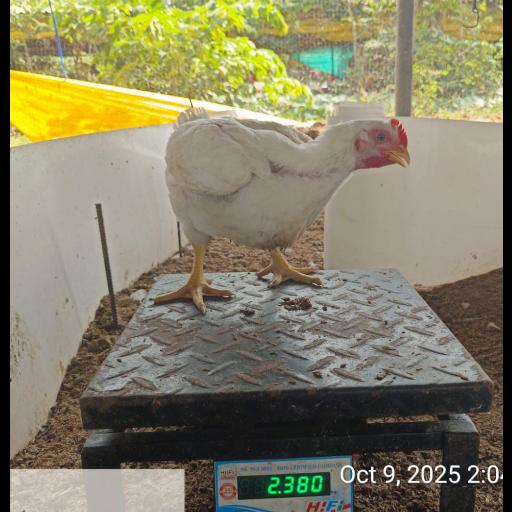chick: (153, 108, 411, 314)
